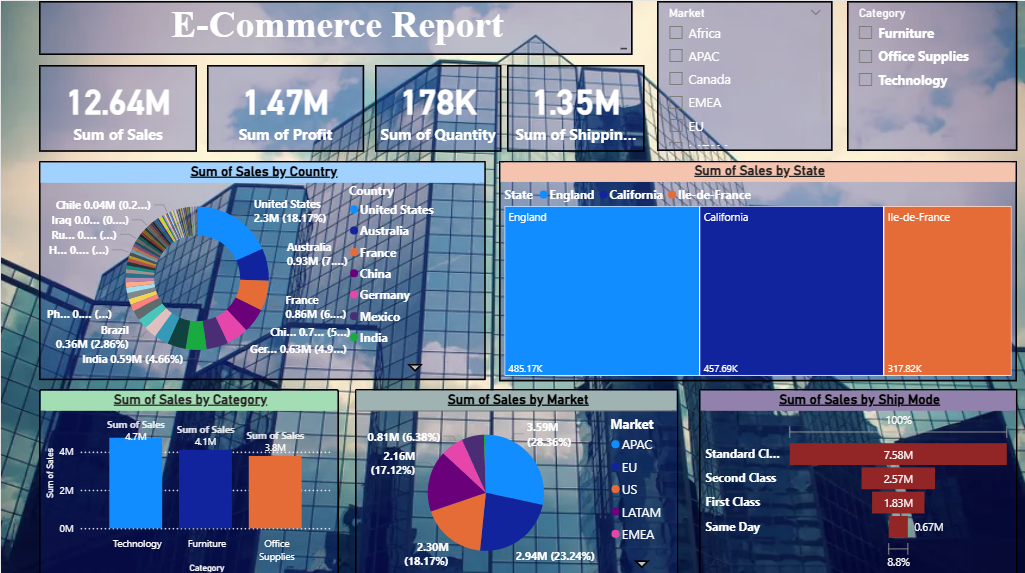

Layout of this report page (visuals, bound fields, positions):
{"tool":"powerbi","page":{"name":"Page 1","canvas":[1280,720],"ordinal":0},"visuals":[{"type":"columnChart","fields":{"Y":["Sum(Orders.Sales)"],"Category":["Orders.Category"]},"box":[47.2,485.7,374.8,237.1],"z":0},{"type":"pieChart","fields":{"Y":["Sum(Orders.Sales)"],"Category":["Orders.Market"]},"box":[443.7,485.7,404.1,233.3],"z":1000},{"type":"funnel","fields":{"Y":["Sum(Orders.Sales)"],"Category":["Orders.Ship Mode"]},"box":[873.3,485.7,397.8,234.6],"z":2000},{"type":"donutChart","fields":{"Y":["Sum(Orders.Sales)"],"Category":["Orders.Country"]},"box":[47.2,198.9,558.4,274.1],"z":3000},{"type":"treemap","fields":{"Values":["Sum(Orders.Sales)"],"Group":["Orders.State"]},"box":[623.4,198.9,647.6,275.4],"z":4000},{"type":"card","fields":{"Values":["Sum(Orders.Sales)"]},"box":[47.2,80.3,197.6,108.4],"z":5000},{"type":"card","fields":{"Values":["Sum(Orders.Profit)"]},"box":[256.3,79,196.3,108.4],"z":6000},{"type":"card","fields":{"Values":["Sum(Orders.Quantity)"]},"box":[466.6,79,158.1,108.4],"z":7000},{"type":"card","fields":{"Values":["Sum(Orders.Shipping Cost)"]},"box":[633.6,79,172.1,108.4],"z":8000},{"type":"slicer","fields":{"Values":["Orders.Market"]},"box":[819.8,0,219.3,187.4],"z":9000},{"type":"slicer","fields":{"Values":["Orders.Category"]},"box":[1058.2,0,212.9,187.4],"z":10000},{"type":"textbox","title":"E-Commerce  Report","box":[47.2,0,742,67.6],"z":11000}]}

Visuals, with their boxes in screenshot pixels (x1, y1, x2, y2), scaled from the page's 1280x720 canvas onto the 1025x573 screenshot:
columnChart - Sum(Orders.Sales) x Orders.Category: (left=38, top=387, right=338, bottom=572)
pieChart - Sum(Orders.Sales) x Orders.Market: (left=355, top=387, right=679, bottom=572)
funnel - Sum(Orders.Sales) x Orders.Ship Mode: (left=699, top=387, right=1018, bottom=572)
donutChart - Sum(Orders.Sales) x Orders.Country: (left=38, top=158, right=485, bottom=376)
treemap - Sum(Orders.Sales) x Orders.State: (left=499, top=158, right=1018, bottom=377)
card - Sum(Orders.Sales): (left=38, top=64, right=196, bottom=150)
card - Sum(Orders.Profit): (left=205, top=63, right=362, bottom=149)
card - Sum(Orders.Quantity): (left=374, top=63, right=500, bottom=149)
card - Sum(Orders.Shipping Cost): (left=507, top=63, right=645, bottom=149)
slicer - Orders.Market: (left=656, top=0, right=832, bottom=149)
slicer - Orders.Category: (left=847, top=0, right=1018, bottom=149)
"E-Commerce  Report" textbox: (left=38, top=0, right=632, bottom=54)
